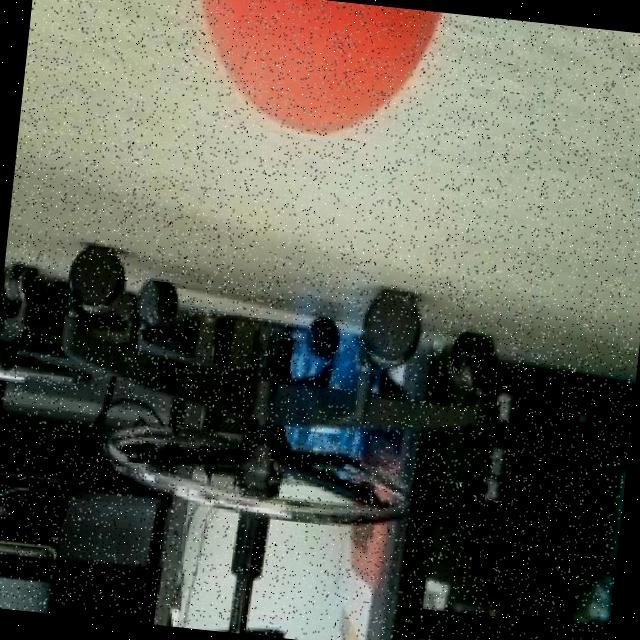ping-pong-ball: (174, 0, 456, 156)
